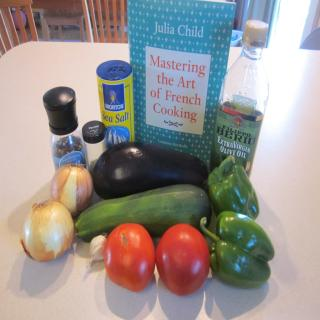tomato: (155, 222, 210, 296), (103, 222, 154, 292)
